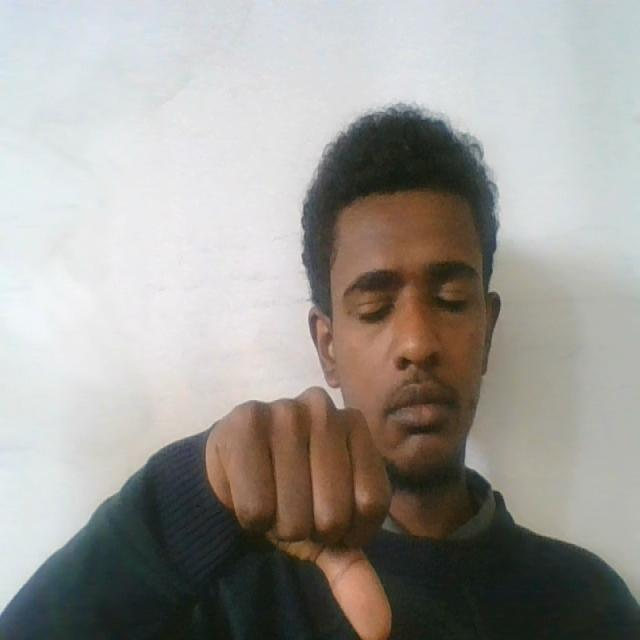yes: (204, 382, 407, 640)
